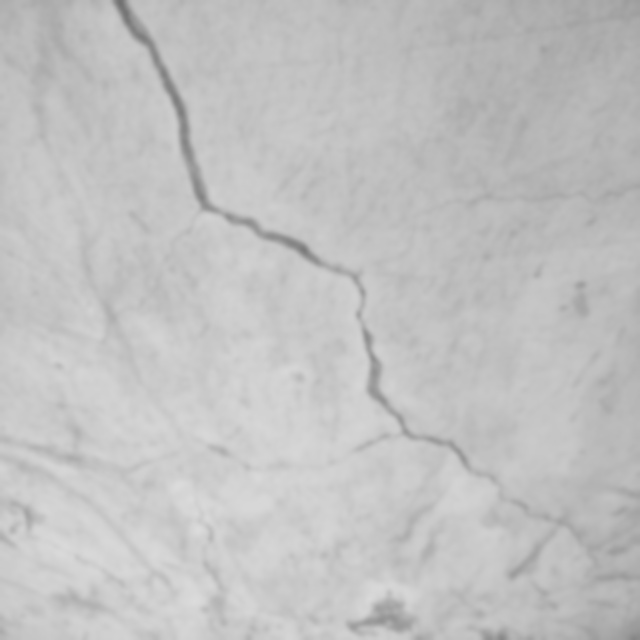SurfaceCrack: (28, 0, 632, 639)
